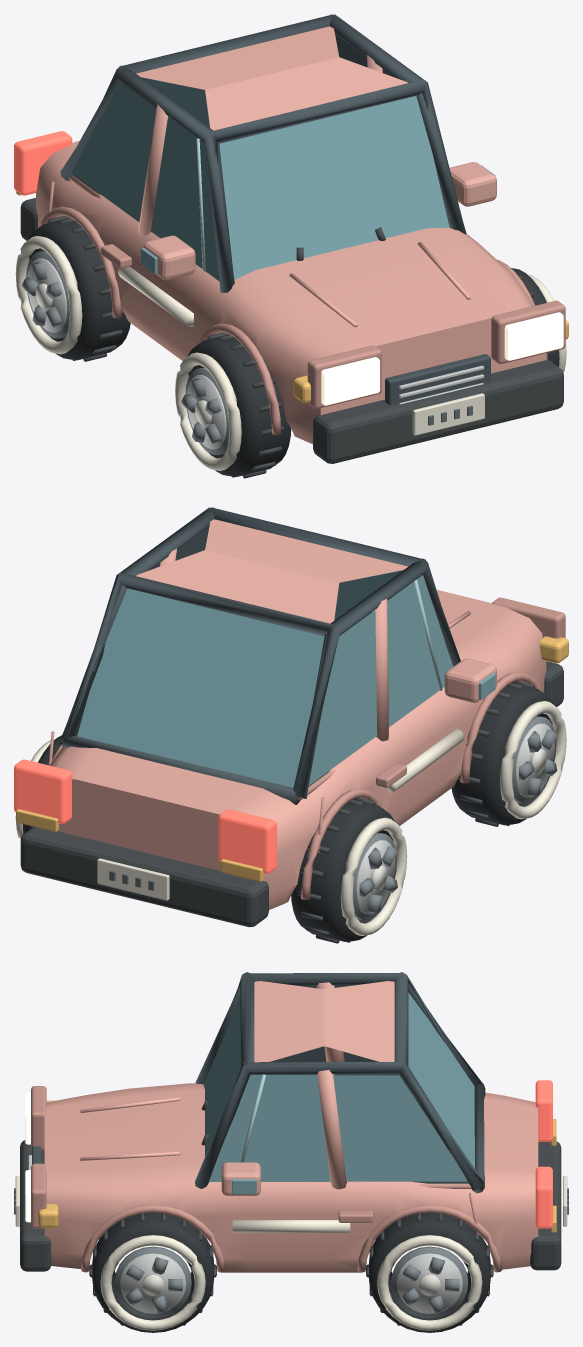
Rendered from car_10.fbx.
3 renders of one model, top to bottom at view 1: azimuth 30°, elevation 25°; view 2: azimuth 150°, elevation 25°; view 3: azimuth 270°, elevation 25°, orthographic. The views are drawn at different scales.
Visible parts, largest first — view 1: Body_SculptedShell, FrontWindscreen, Roof_CrownedPanel, FrontBumper, SideWindow_L_1, SideWindow_L_0, Tyre_FL, Tyre_RL, WindowOutline_L, WindowOutline_R, FrontWindscreenBorder, Whitewall_FL (+26 smaller); view 2: Body_SculptedShell, RearWindow, Roof_CrownedPanel, RearBumper, SideWindow_L_1, RearWindowBorder, SideWindow_L_0, Tyre_RL, Tyre_FL, WindowOutline_L, Whitewall_FL, Whitewall_RL (+24 smaller); view 3: Body_SculptedShell, SideWindow_R_1, Roof_CrownedPanel, SideWindow_R_0, RearWindow, WindowOutline_R, Tyre_RR, Tyre_FR, RearWindowBorder, Whitewall_FR, WindowOutline_L, Whitewall_RR (+23 smaller).
Part boxes in pixels (x1,y1,x2,y2): Body_SculptedShell: [36, 140, 546, 444]; FrontWindscreen: [219, 96, 449, 279]; Roof_CrownedPanel: [136, 26, 407, 130]; FrontBumper: [313, 360, 563, 463]; SideWindow_L_1: [72, 82, 156, 222]; SideWindow_L_0: [151, 116, 219, 281]; Tyre_FL: [187, 334, 291, 476]; Tyre_RL: [28, 218, 130, 360]; WindowOutline_L: [63, 65, 234, 290]; WindowOutline_R: [329, 14, 466, 234]; FrontWindscreenBorder: [206, 80, 440, 292]; Whitewall_FL: [175, 352, 241, 470]; Body_SculptedShell: [49, 589, 546, 909]; RearWindow: [77, 588, 324, 787]; Roof_CrownedPanel: [136, 519, 407, 623]; RearBumper: [20, 827, 268, 927]; SideWindow_L_1: [308, 610, 377, 785]; RearWindowBorder: [62, 572, 337, 804]; SideWindow_L_0: [387, 575, 453, 727]; Tyre_RL: [291, 799, 394, 941]; Tyre_FL: [451, 683, 553, 825]; WindowOutline_L: [293, 558, 460, 798]; Whitewall_FL: [500, 701, 566, 819]; Whitewall_RL: [340, 817, 407, 935]; Body_SculptedShell: [44, 1083, 538, 1272]; SideWindow_R_1: [333, 1075, 467, 1181]; Roof_CrownedPanel: [254, 981, 394, 1062]; SideWindow_R_0: [209, 1075, 330, 1181]; RearWindow: [408, 992, 474, 1168]; WindowOutline_R: [195, 1062, 483, 1190]; Tyre_RR: [368, 1212, 490, 1332]; Tyre_FR: [92, 1212, 214, 1332]; RearWindowBorder: [394, 972, 485, 1193]; Whitewall_FR: [100, 1235, 205, 1330]; WindowOutline_L: [195, 973, 480, 1084]; Whitewall_RR: [377, 1235, 482, 1330].
Bounding box in the file's own units: 218 × 175 × 349.
